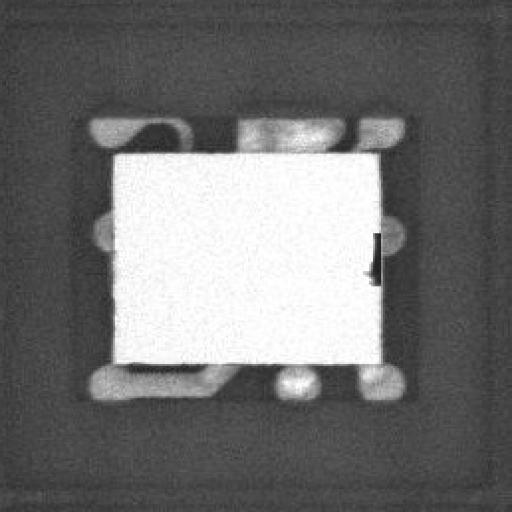DIE_BROKEN: (361, 228, 383, 290)
